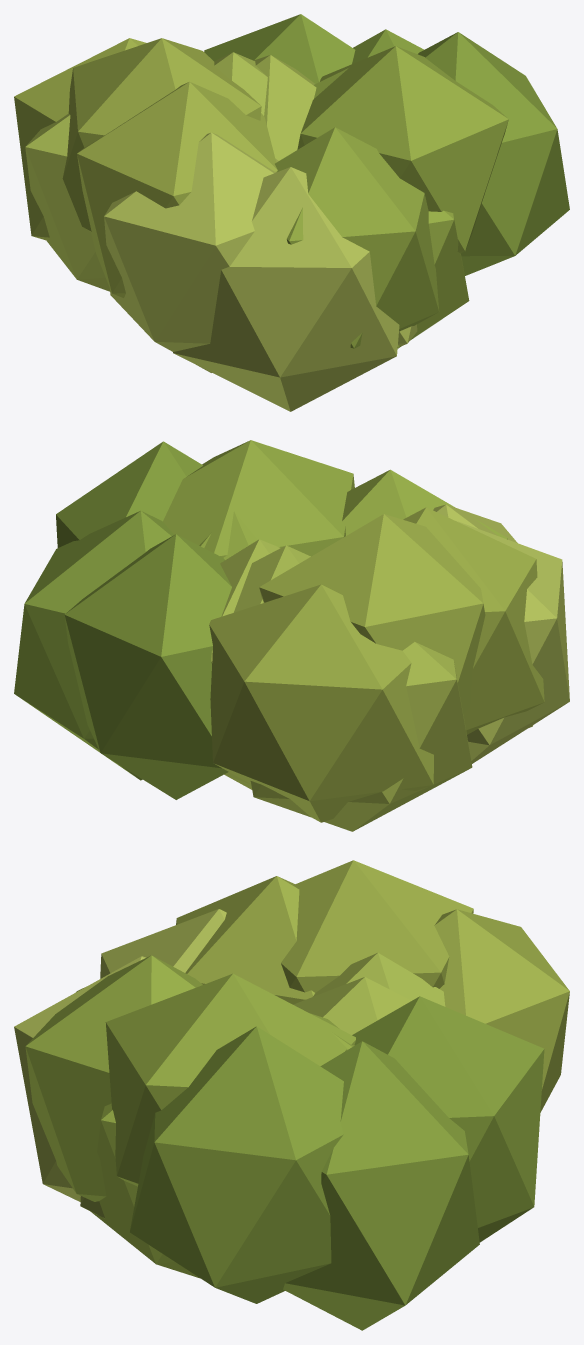
File: Bush_Round.fbx
3 renders of one model, top to bottom at view 1: azimuth 30°, elevation 25°; view 2: azimuth 150°, elevation 25°; view 3: azimuth 270°, elevation 25°, orthographic. The views are drawn at different scales.
Visible parts, largest first — view 1: Bush_Round; view 2: Bush_Round; view 3: Bush_Round.
Part boxes in pixels (x1,y1,x2,y2): Bush_Round: [14, 14, 569, 411]; Bush_Round: [14, 440, 569, 831]; Bush_Round: [14, 860, 569, 1330].
Size of the model in its own units: 115 by 75.07 by 107.
